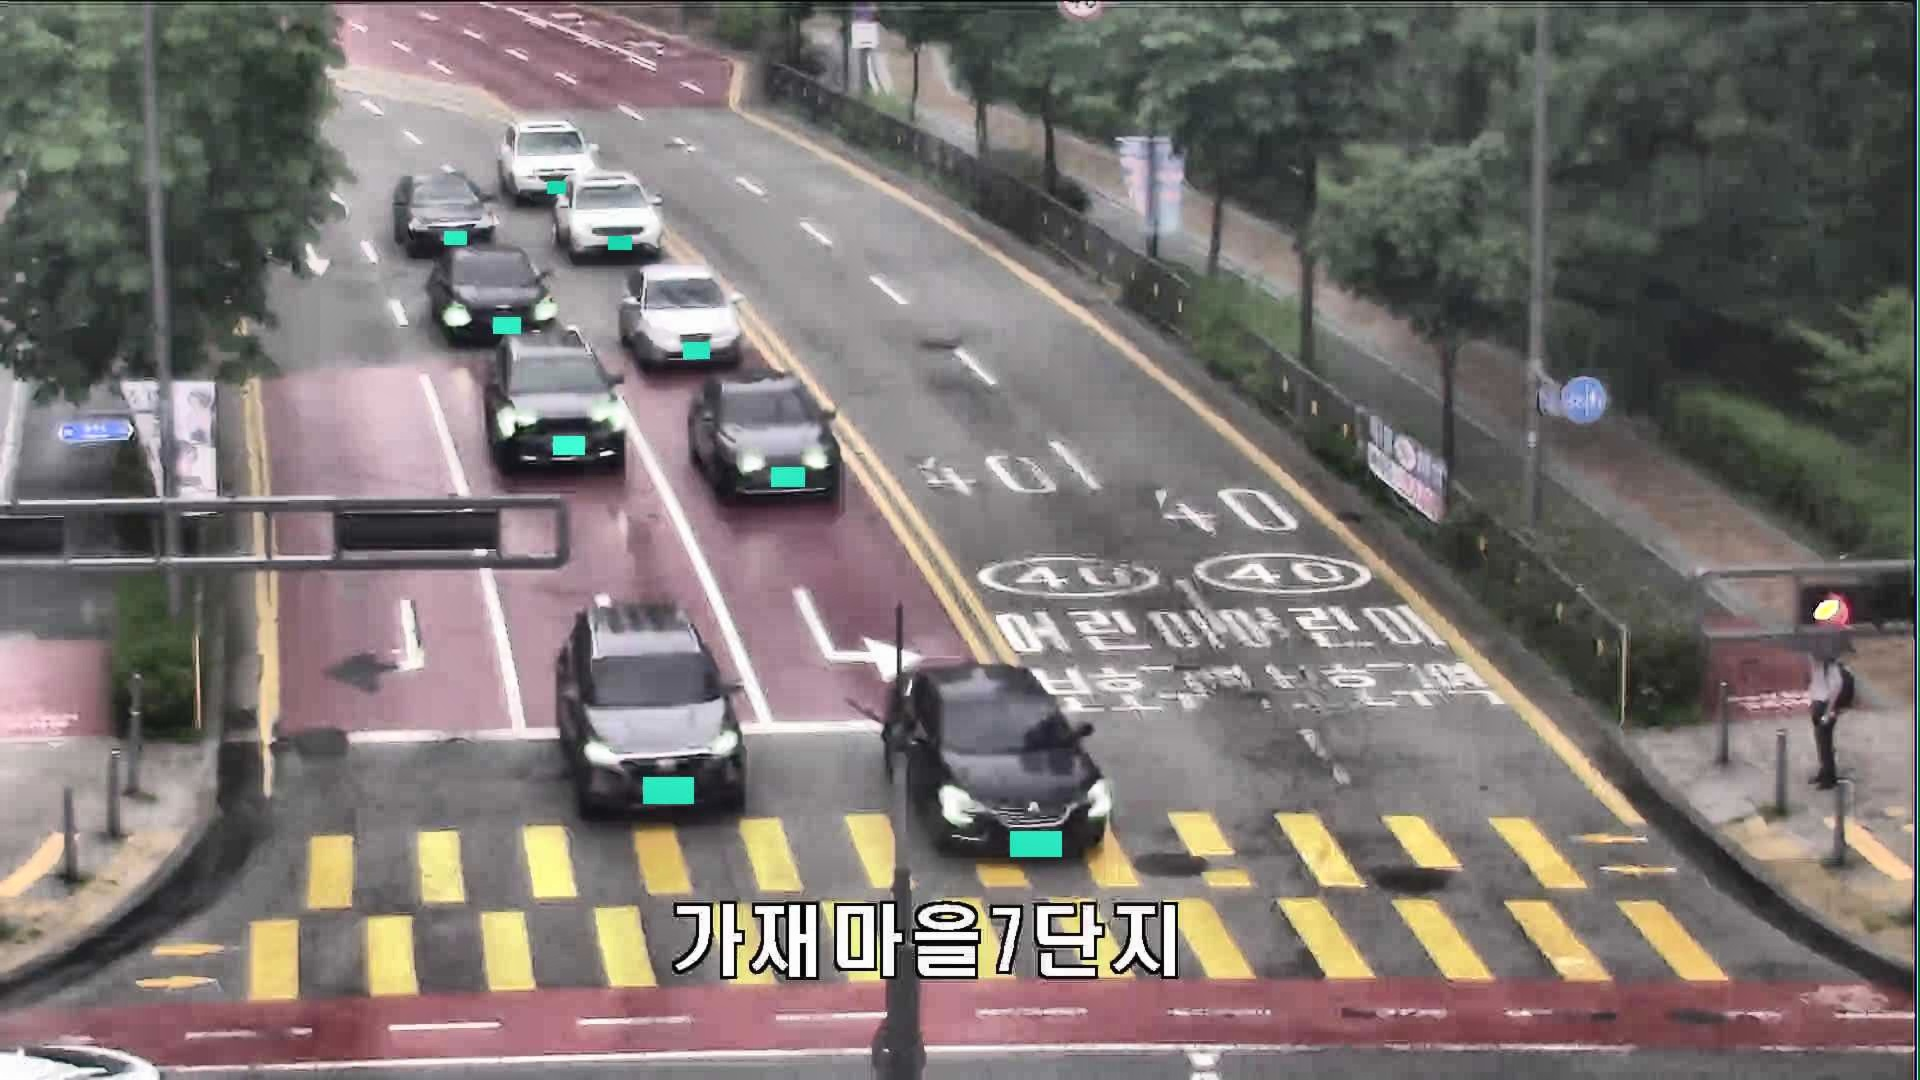um_sidewalk: (1782, 624, 1862, 781)
